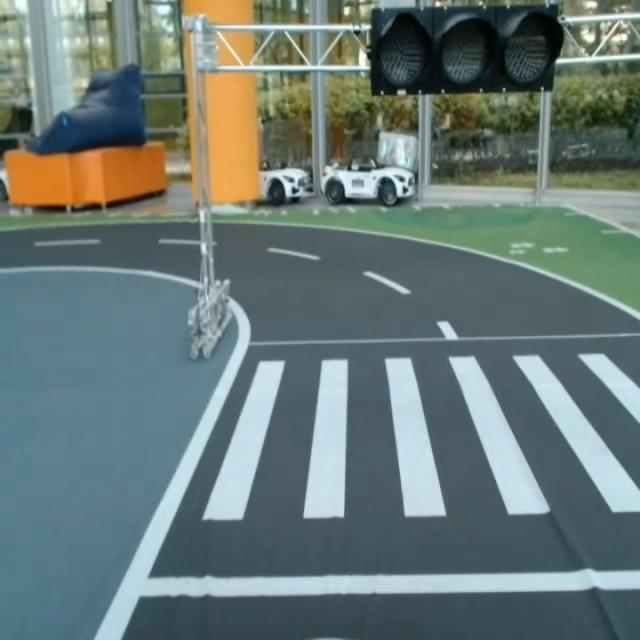traffic-light: (366, 6, 566, 94)
